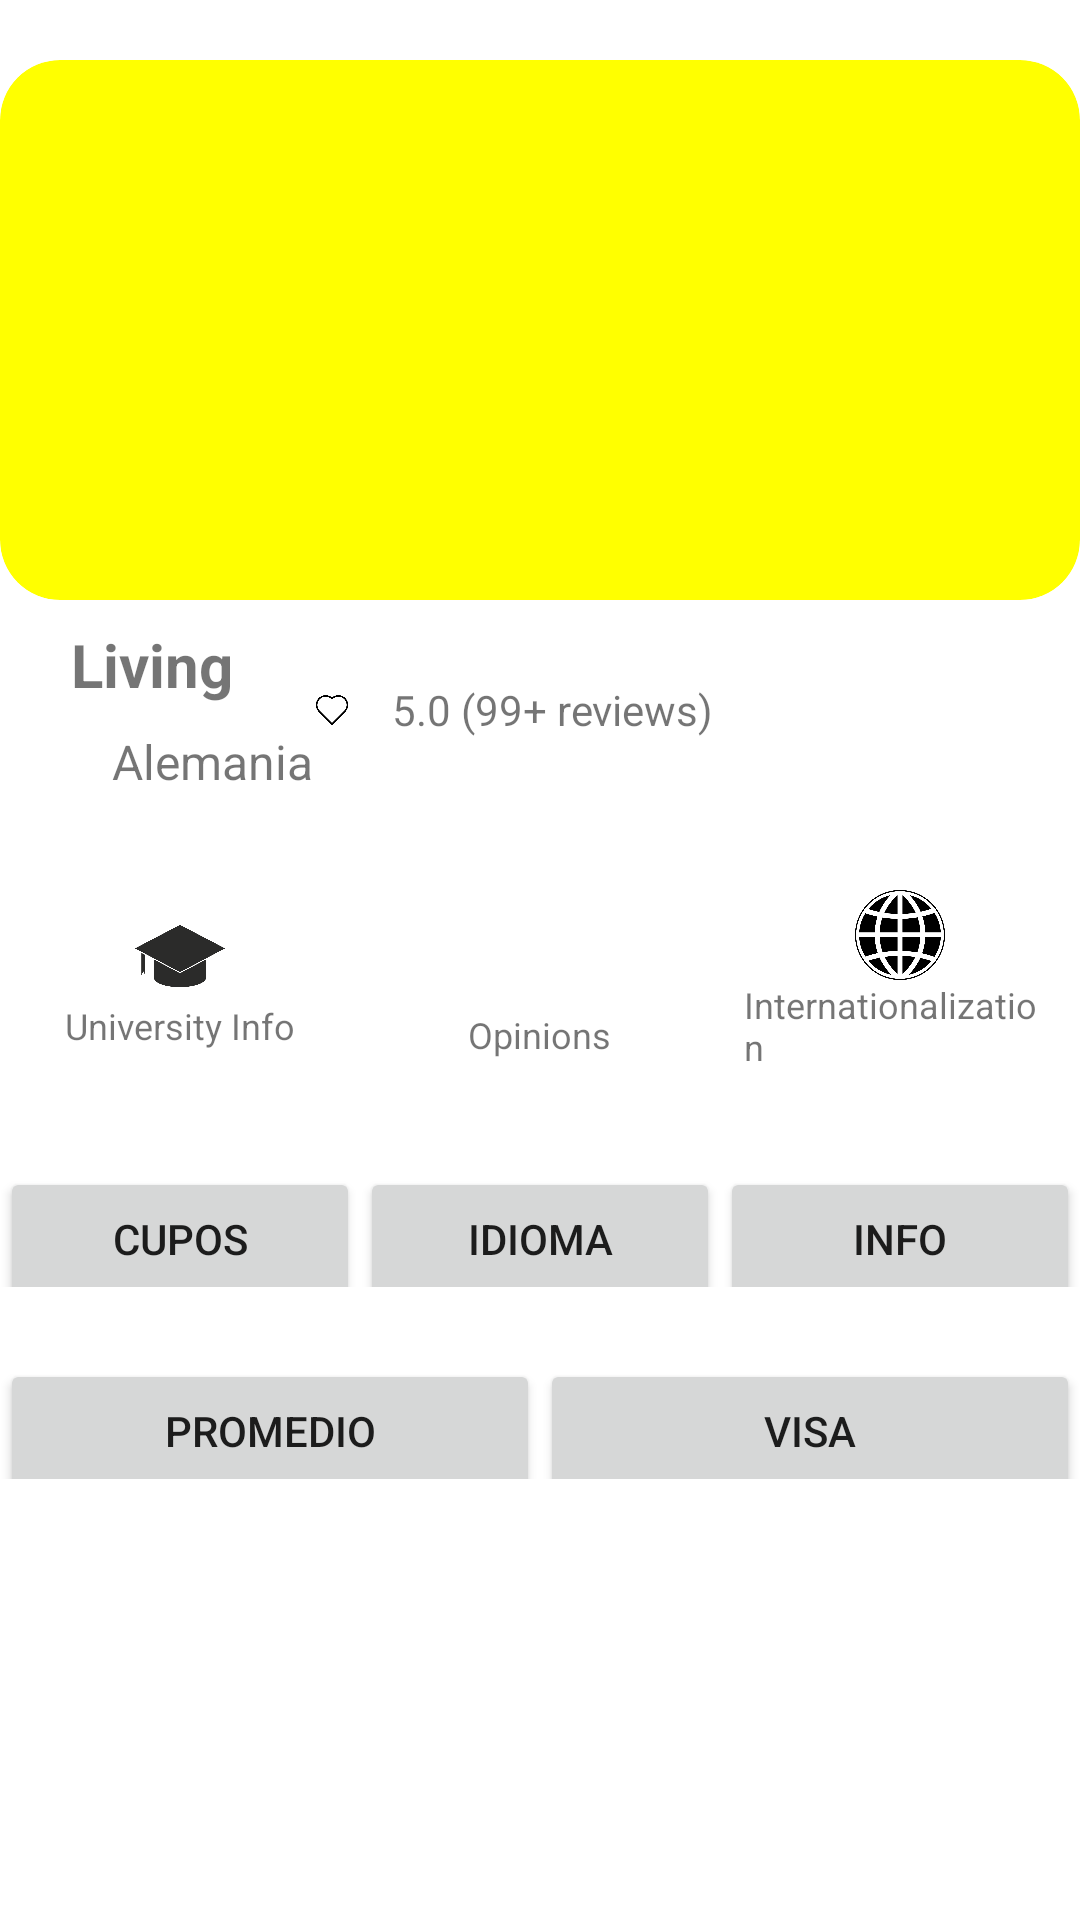

Where icons sit on this 1080px x 1920px app screen, as (x1=x1, y1=y1, x2=x2, y2=y2):
heart: (x1=316, y1=695, x2=348, y2=725)
world: (x1=855, y1=890, x2=945, y2=980)
